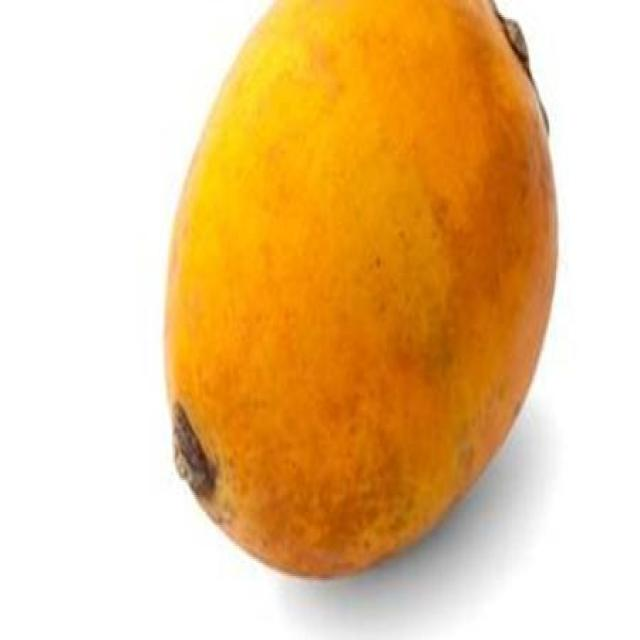good: (161, 0, 562, 582)
